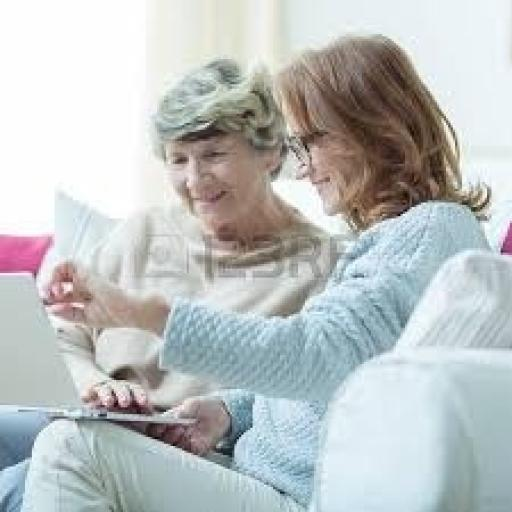using_laptop: (0, 268, 198, 428)
